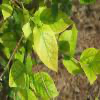Blueberry leaf: (33, 23, 60, 74)
